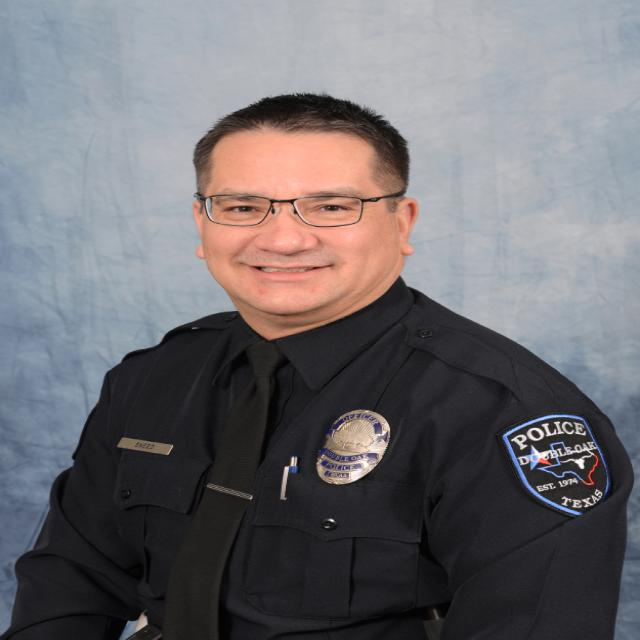police: (27, 85, 640, 640)
